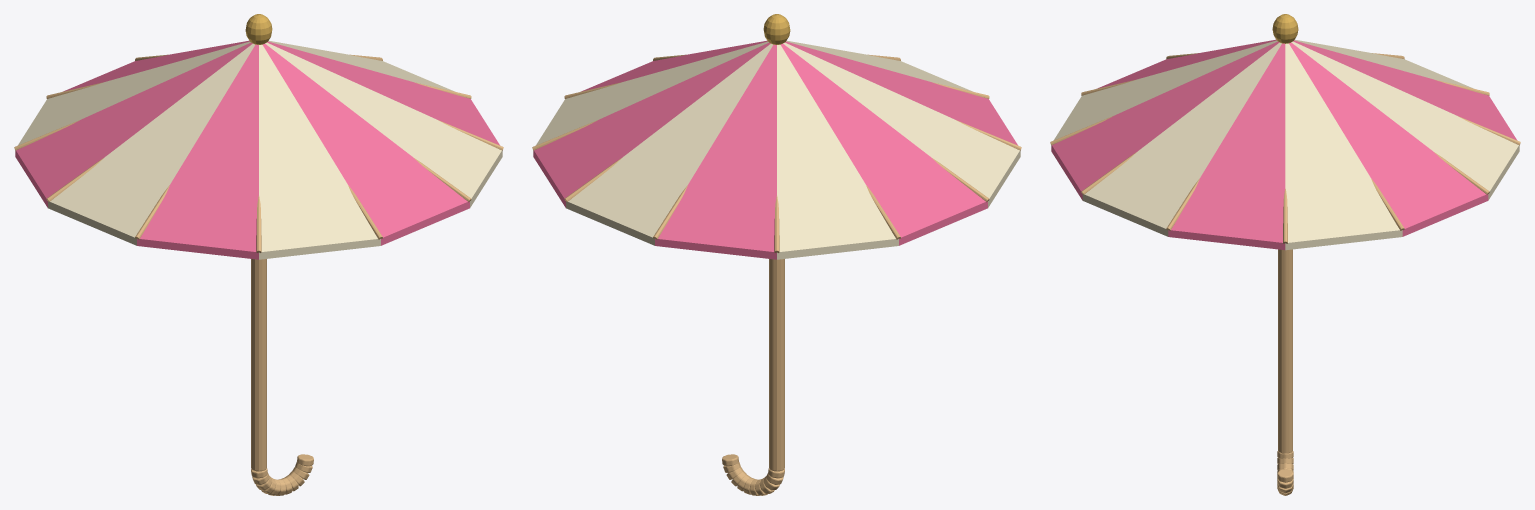
Rendered from P007_parasol.glb.
The picture shows the model from 3 angles, left to right: view 1: azimuth 30°, elevation 25°; view 2: azimuth 150°, elevation 25°; view 3: azimuth 270°, elevation 25°; orthographic projection. The views are drawn at different scales.
Visible parts, largest first — view 1: P007_canopy_028, P007_canopy_030, P007_canopy_026, P007_canopy_032, P007_canopy_024, P007_canopy_034, P007_canopy_022, P007_canopy_036, P007_shaft_001, P007_canopy_020, P007_canopy_014, P007_tip_038; view 2: P007_canopy_020, P007_canopy_022, P007_canopy_024, P007_canopy_018, P007_canopy_016, P007_canopy_026, P007_canopy_014, P007_canopy_028, P007_shaft_001, P007_canopy_030, P007_canopy_036, P007_tip_038; view 3: P007_canopy_014, P007_canopy_036, P007_canopy_016, P007_canopy_034, P007_canopy_018, P007_canopy_032, P007_canopy_020, P007_canopy_030, P007_shaft_001, P007_canopy_022, P007_canopy_028, P007_tip_038.
Part boxes in pixels (x1,y1,x2,y2): P007_canopy_028: [137, 44, 258, 259]; P007_canopy_030: [259, 44, 380, 259]; P007_canopy_026: [48, 43, 254, 245]; P007_canopy_032: [263, 44, 469, 245]; P007_canopy_024: [15, 42, 252, 207]; P007_canopy_034: [265, 42, 502, 207]; P007_canopy_022: [18, 41, 250, 145]; P007_canopy_036: [267, 41, 499, 145]; P007_shaft_001: [251, 259, 266, 471]; P007_canopy_020: [63, 40, 249, 91]; P007_canopy_014: [268, 40, 454, 91]; P007_tip_038: [245, 14, 272, 44]; P007_canopy_020: [655, 44, 776, 259]; P007_canopy_022: [777, 44, 898, 259]; P007_canopy_024: [781, 43, 987, 245]; P007_canopy_018: [566, 44, 772, 245]; P007_canopy_016: [533, 42, 770, 207]; P007_canopy_026: [783, 42, 1020, 207]; P007_canopy_014: [536, 41, 768, 145]; P007_canopy_028: [785, 41, 1017, 145]; P007_shaft_001: [769, 259, 784, 471]; P007_canopy_030: [786, 40, 972, 91]; P007_canopy_036: [581, 40, 767, 91]; P007_tip_038: [763, 14, 790, 44]; P007_canopy_014: [1285, 43, 1402, 250]; P007_canopy_036: [1168, 43, 1285, 250]; P007_canopy_016: [1289, 42, 1488, 236]; P007_canopy_034: [1082, 42, 1281, 236]; P007_canopy_018: [1291, 41, 1519, 200]; P007_canopy_032: [1051, 41, 1279, 200]; P007_canopy_020: [1293, 40, 1517, 140]; P007_canopy_030: [1053, 40, 1277, 140]; P007_shaft_001: [1278, 249, 1292, 453]; P007_canopy_022: [1294, 39, 1474, 88]; P007_canopy_028: [1096, 39, 1276, 88]; P007_tip_038: [1272, 14, 1298, 43].
Size of the model in its own units: 0.7228 by 0.7912 by 0.7228.
